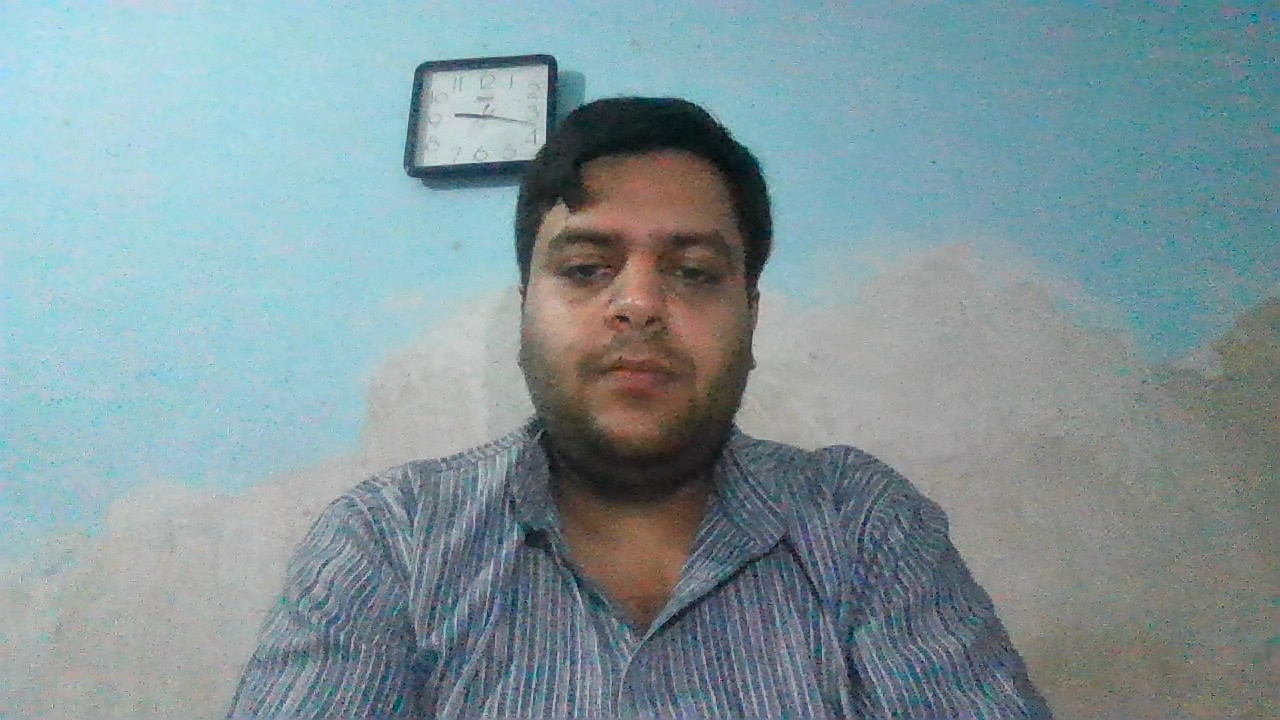No Mask: (517, 289, 745, 485)
